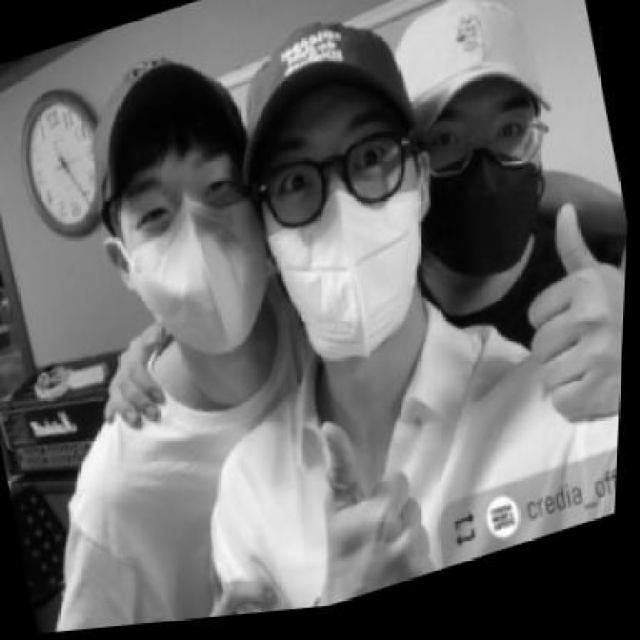hat: (60, 27, 271, 255), (207, 0, 431, 211), (371, 0, 564, 171)
